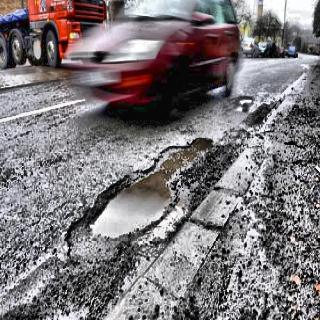pothole: (87, 132, 221, 242), (234, 95, 256, 115)
